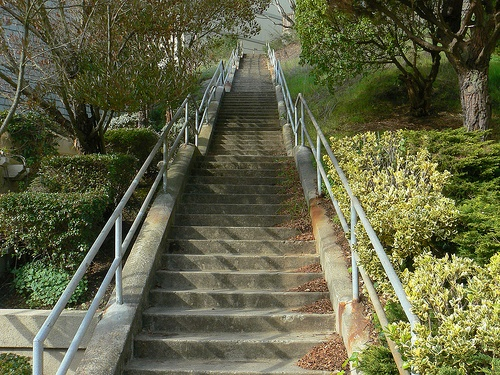stairs_up: (153, 88, 338, 375)
